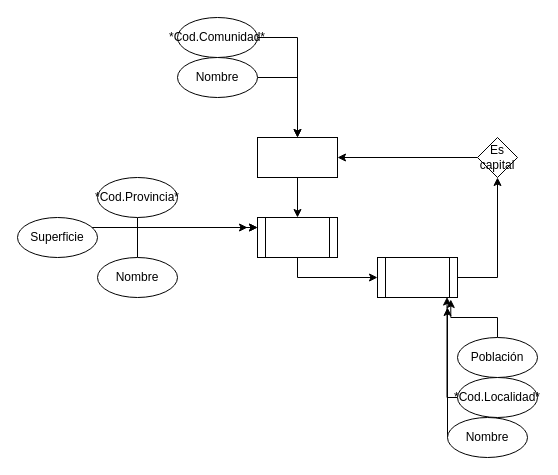
Some shapes in this 558 by 475 pixel diagram are drawn without their labels. The centre of each missing label's shape, as x and y in pixels:
"Comunidades" goes at point 297,157.
"Localidades" goes at point 417,277.
"Provincias" goes at point 297,237.
